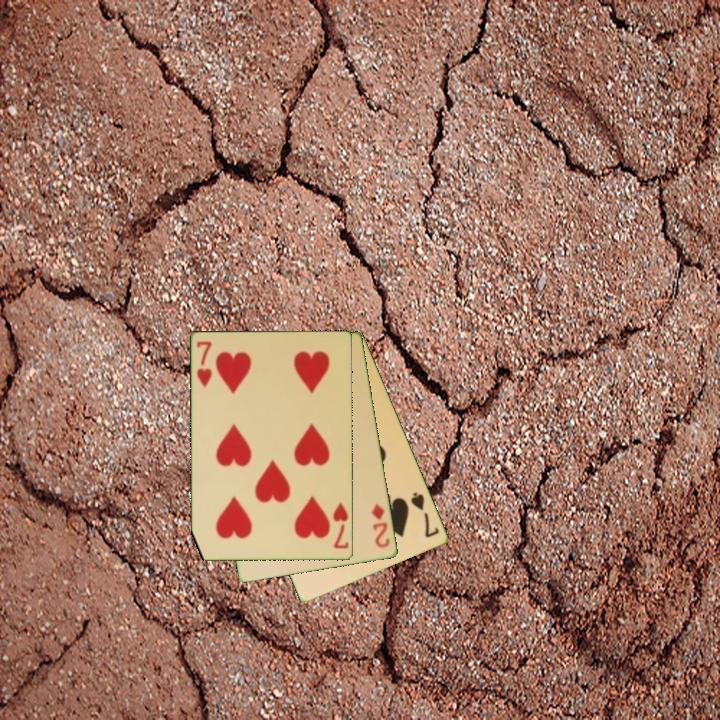2d: (368, 501, 393, 551)
7h: (194, 338, 215, 391), (330, 499, 351, 551)
7s: (407, 488, 442, 541)
